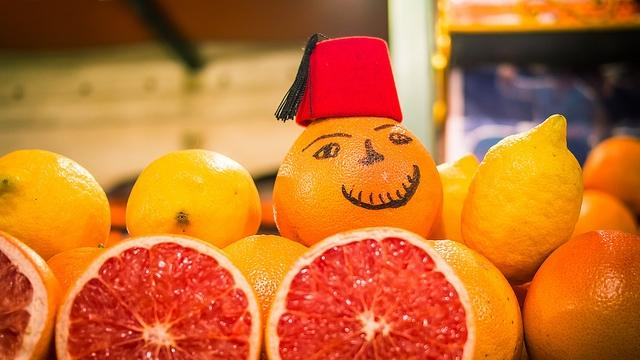lemon: (460, 114, 584, 282), (125, 148, 262, 250), (0, 149, 111, 262), (429, 151, 481, 246)
